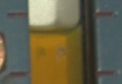border: (94, 69, 119, 78), (7, 70, 33, 78), (94, 10, 117, 19), (6, 11, 30, 19)
liquidlevel: (27, 21, 83, 40)
